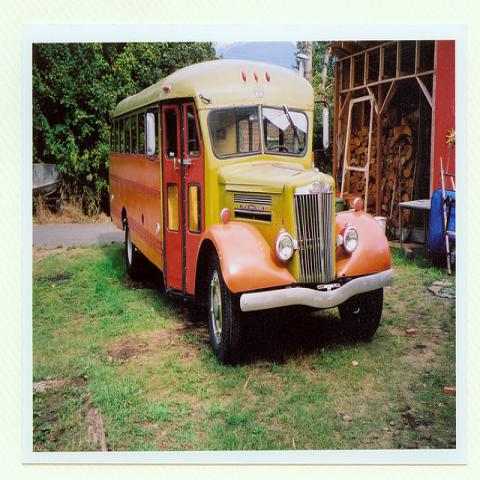bus: (110, 59, 394, 356)
